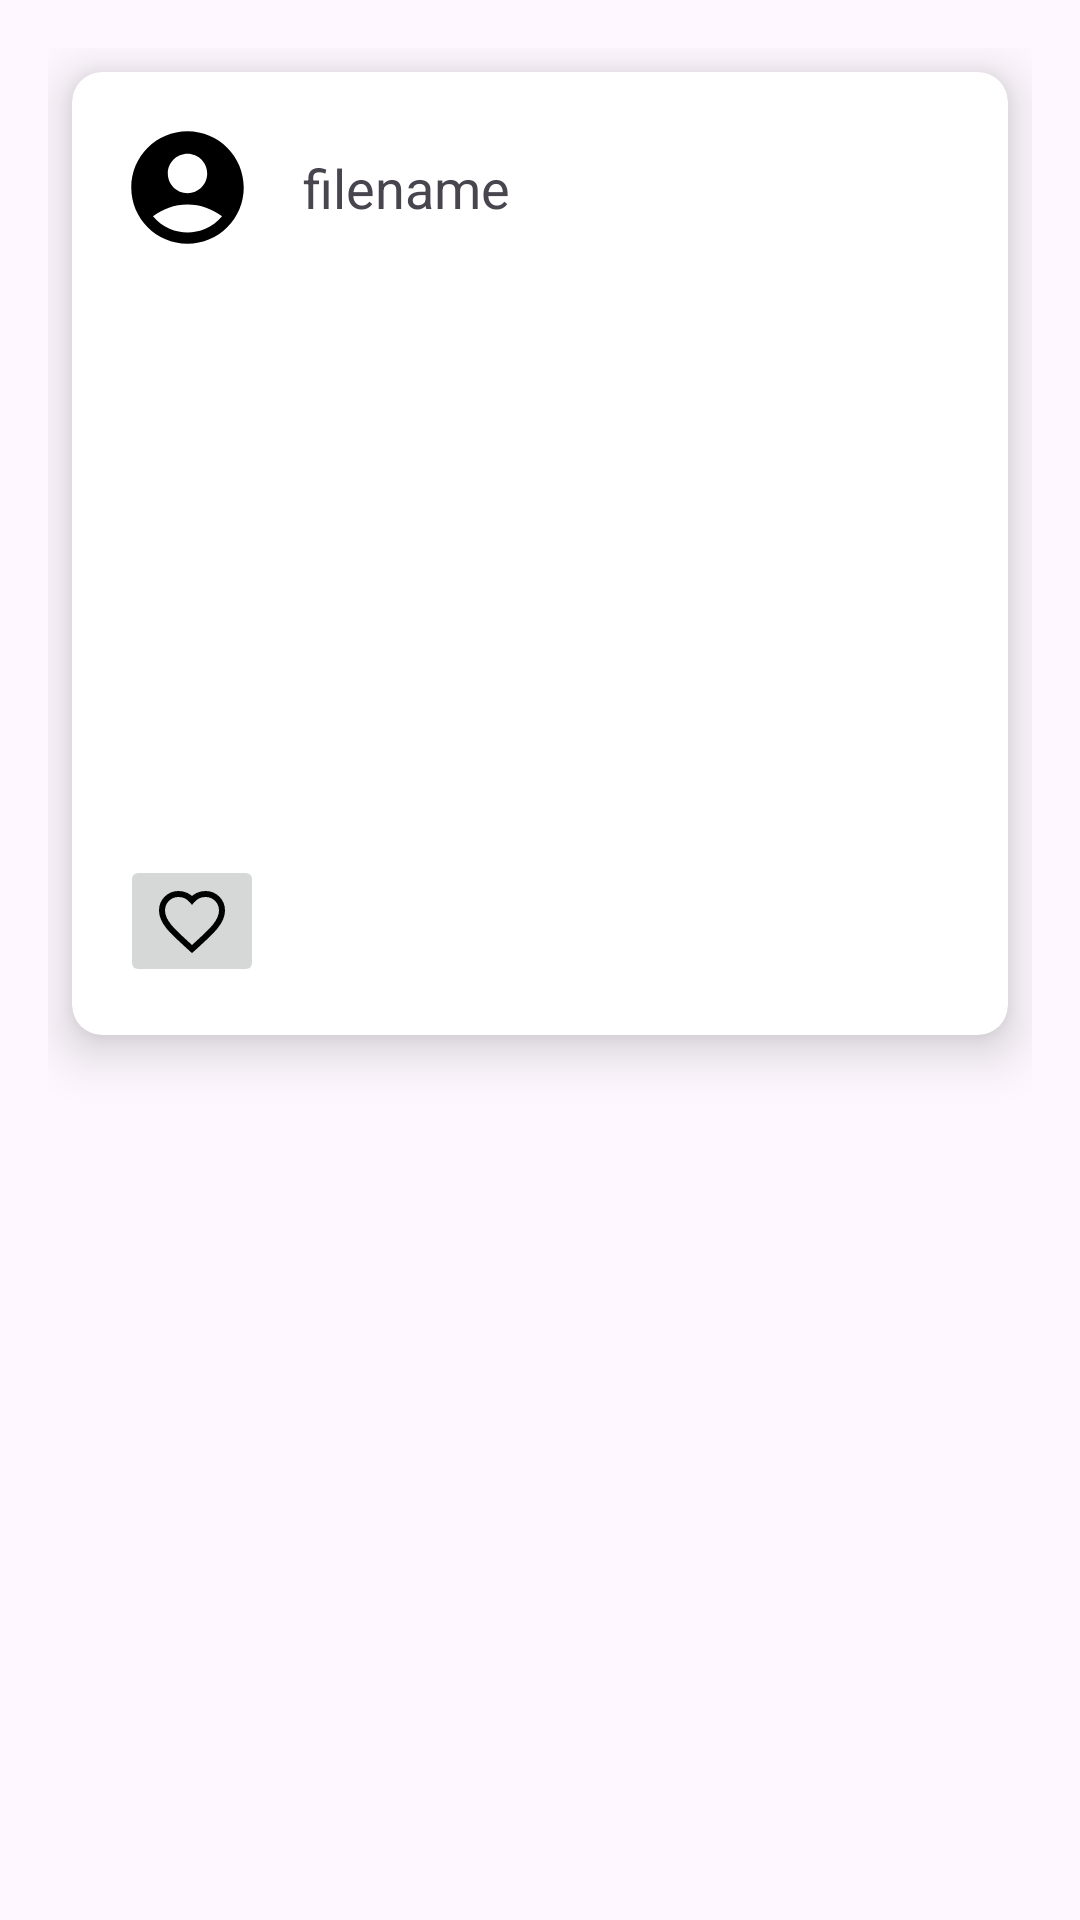

Named icons in this screenshot (1080*1920) and their bounding boxes, (x1, y1, x2, y2):
profile: (131, 131, 244, 244)
